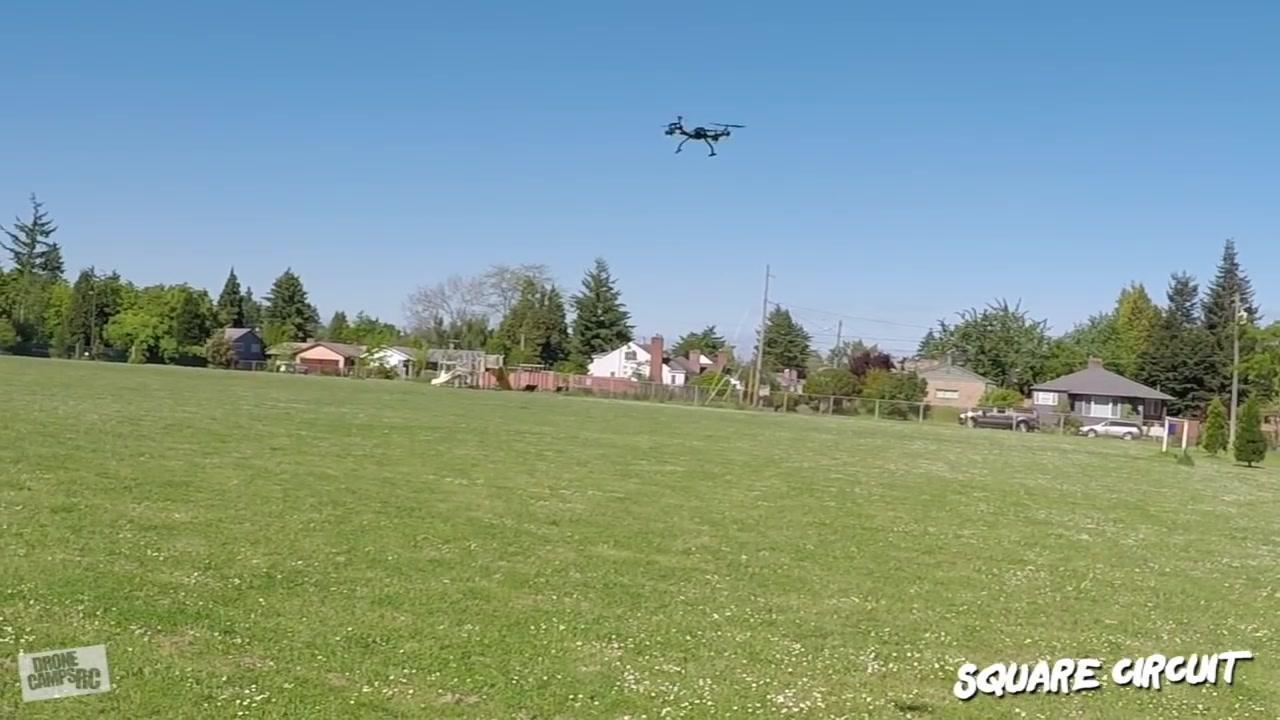UAV: (662, 117, 748, 158)
